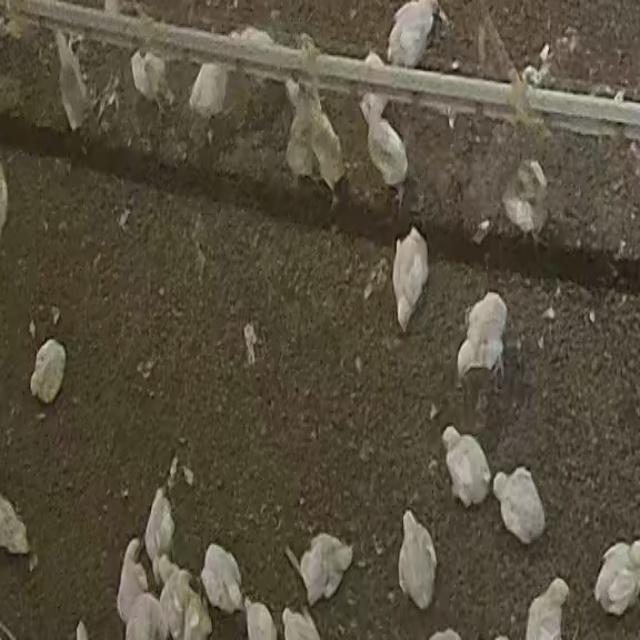chicken: (458, 287, 506, 380), (289, 534, 350, 603), (492, 467, 545, 545), (300, 98, 344, 190), (442, 428, 492, 508), (398, 510, 438, 610), (364, 96, 407, 188), (278, 80, 319, 175), (188, 43, 235, 124), (393, 226, 429, 328), (117, 540, 155, 631), (594, 542, 640, 614), (201, 543, 246, 616), (388, 0, 436, 67), (524, 579, 570, 639), (158, 555, 190, 636), (145, 490, 174, 574), (30, 337, 63, 401), (133, 38, 165, 101), (282, 607, 323, 640)
